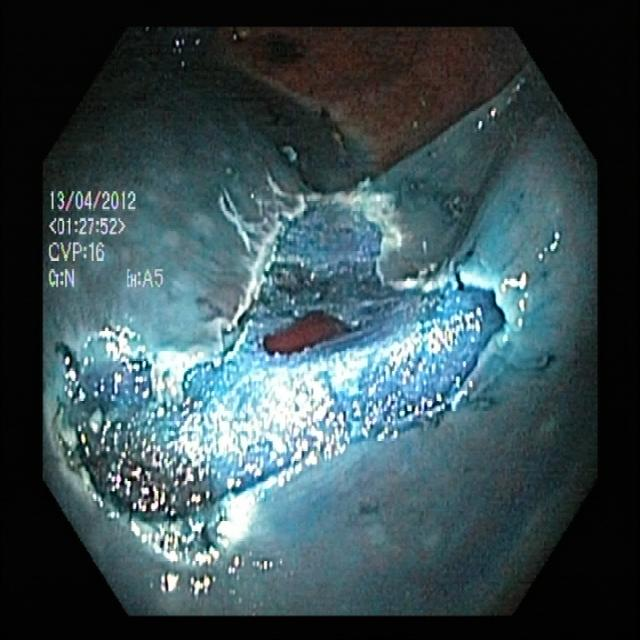dyed-resection-margins: (40, 164, 546, 573)
